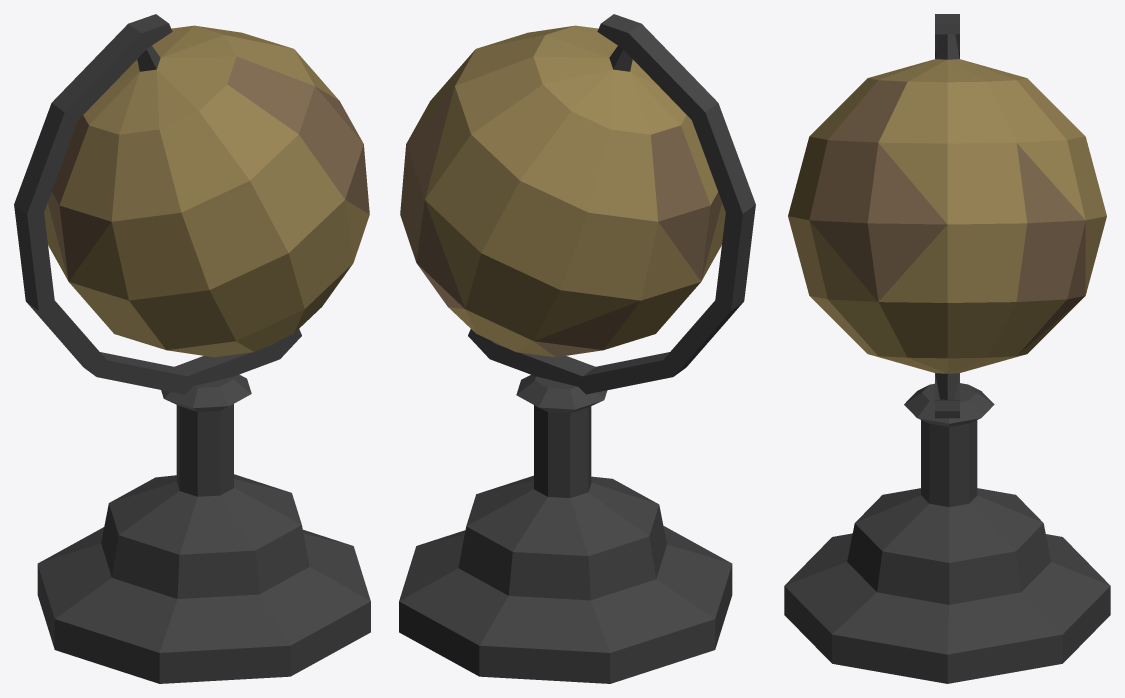
File: Globe.fbx
3 renders of one model, left to right at view 1: azimuth 30°, elevation 25°; view 2: azimuth 150°, elevation 25°; view 3: azimuth 270°, elevation 25°, orthographic. The views are drawn at different scales.
Visible parts, largest first — view 1: Globe; view 2: Globe; view 3: Globe.
Part boxes in pixels (x1,y1,x2,y2): Globe: (14,14,370,683); Globe: (399,14,755,683); Globe: (784,14,1110,683).
Bounding box in the file's own units: 54.34 × 94.29 × 48.77.
